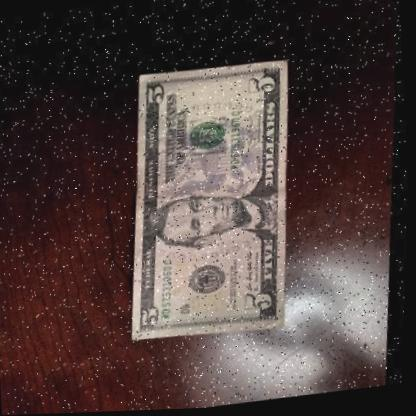five-front: (115, 55, 315, 346)
